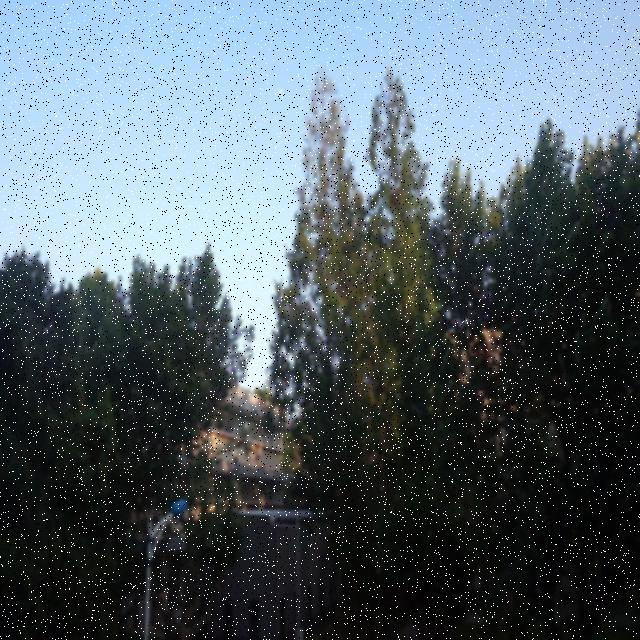UAV: (304, 305, 312, 312)
